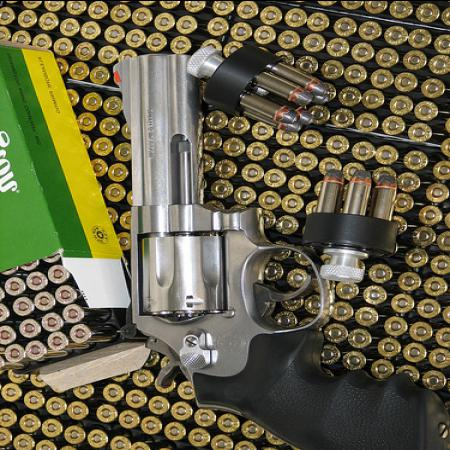Pistol: (109, 53, 449, 449)
